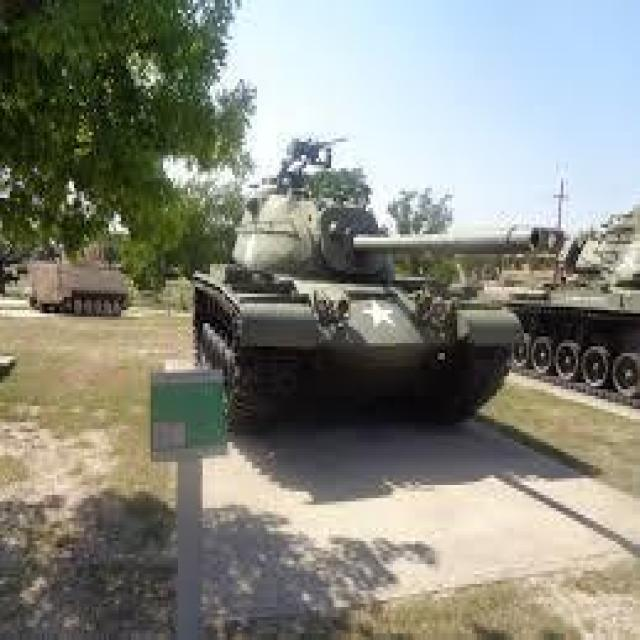MIL_MBT: (195, 132, 514, 432), (546, 152, 638, 426), (26, 229, 142, 325)
